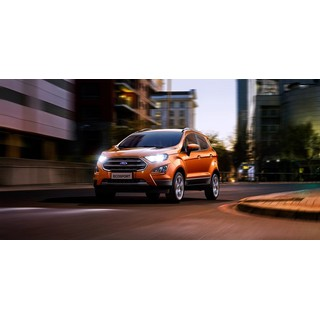car: (93, 128, 222, 203)
